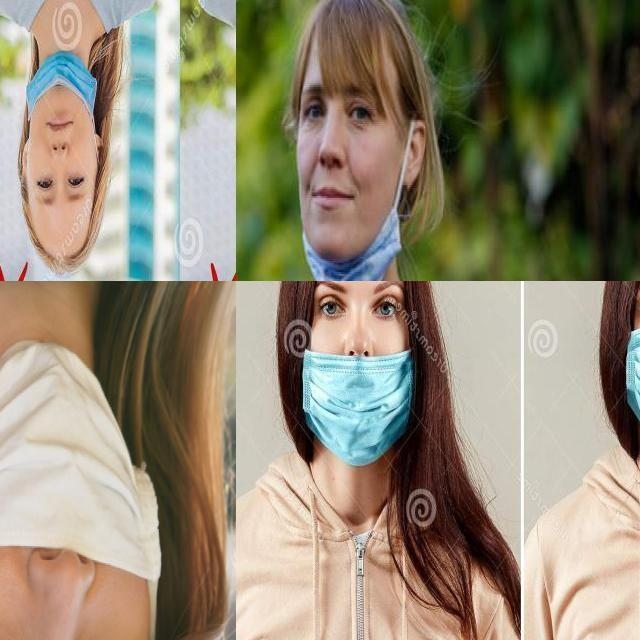hairnet: (304, 121, 410, 280), (301, 329, 416, 466), (28, 51, 99, 168)
